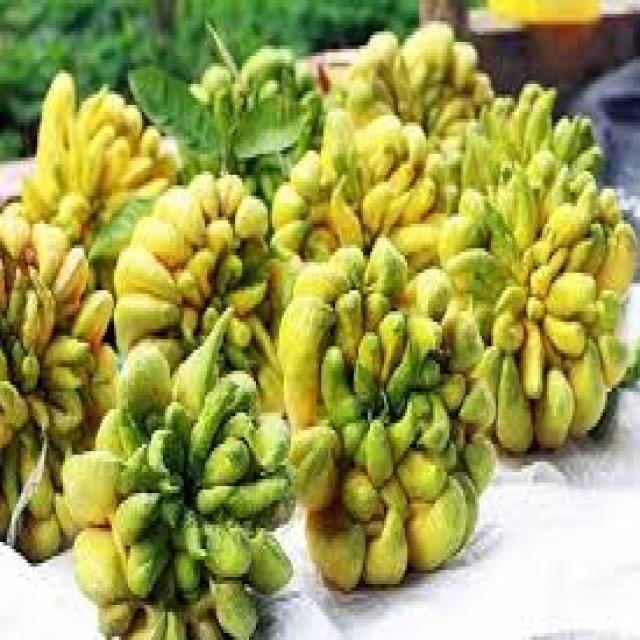PhatThu: (269, 227, 514, 584), (58, 290, 307, 637)
